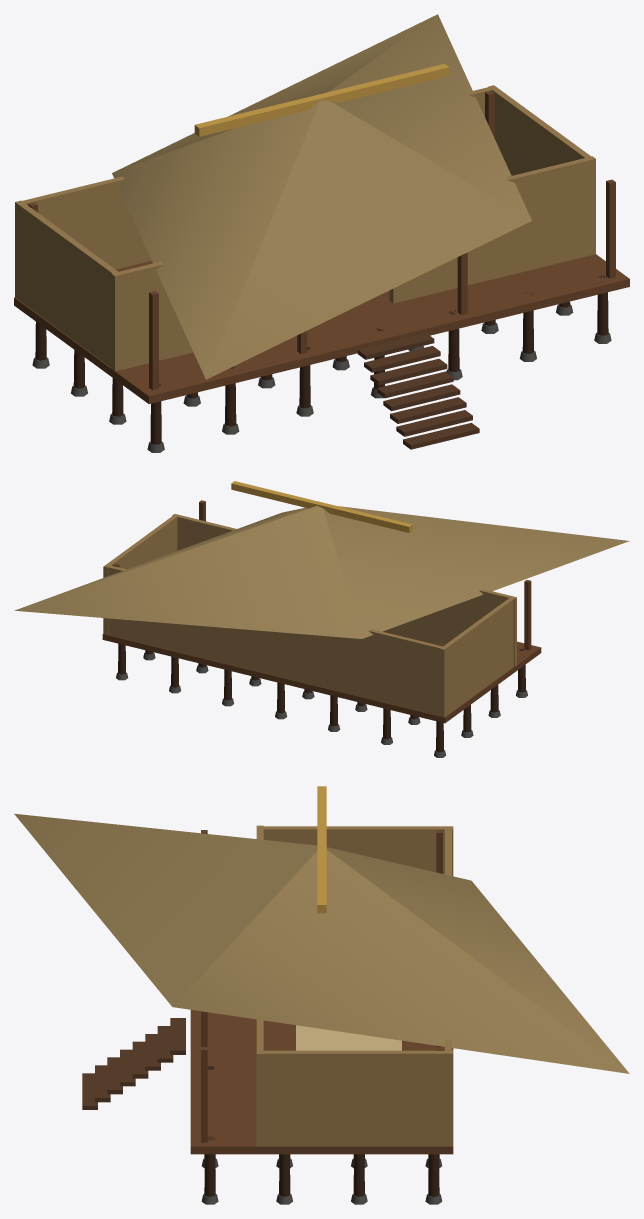
The model's file is karapauw-kame-kamoro.glb.
3 views of the same model, one above another, from view 1: azimuth 30°, elevation 25°; view 2: azimuth 150°, elevation 25°; view 3: azimuth 270°, elevation 25° (orthographic). The views are drawn at different scales.
Visible parts, largest first — view 1: ROOF_SYSTEM, WALL_SYSTEM, FLOOR_SYSTEM, STRUCTURAL_COLUMNS, ENTRANCE_STAIRS, FOUNDATION_SYSTEM; view 2: ROOF_SYSTEM, WALL_SYSTEM, STRUCTURAL_COLUMNS, FLOOR_SYSTEM, FOUNDATION_SYSTEM; view 3: ROOF_SYSTEM, WALL_SYSTEM, FLOOR_SYSTEM, ENTRANCE_STAIRS, STRUCTURAL_COLUMNS, INTERIOR_MAT, FOUNDATION_SYSTEM.
Boxes of the visible parts, x1,y1,x2,y2 form: ROOF_SYSTEM: [112, 14, 531, 379]; WALL_SYSTEM: [15, 85, 595, 371]; FLOOR_SYSTEM: [14, 254, 629, 403]; STRUCTURAL_COLUMNS: [28, 91, 615, 444]; ENTRANCE_STAIRS: [357, 333, 479, 449]; FOUNDATION_SYSTEM: [32, 304, 611, 452]; ROOF_SYSTEM: [15, 481, 629, 638]; WALL_SYSTEM: [103, 514, 516, 717]; STRUCTURAL_COLUMNS: [112, 500, 531, 752]; FLOOR_SYSTEM: [102, 634, 541, 723]; FOUNDATION_SYSTEM: [116, 652, 527, 757]; ROOF_SYSTEM: [14, 786, 629, 1073]; WALL_SYSTEM: [256, 825, 453, 1146]; FLOOR_SYSTEM: [190, 1010, 453, 1154]; ENTRANCE_STAIRS: [82, 1018, 185, 1109]; STRUCTURAL_COLUMNS: [201, 830, 442, 1196]; INTERIOR_MAT: [296, 1025, 401, 1050]; FOUNDATION_SYSTEM: [201, 1158, 442, 1204].
Size of what is drawn, in the model's own units: 15.97 by 7.15 by 15.97.
